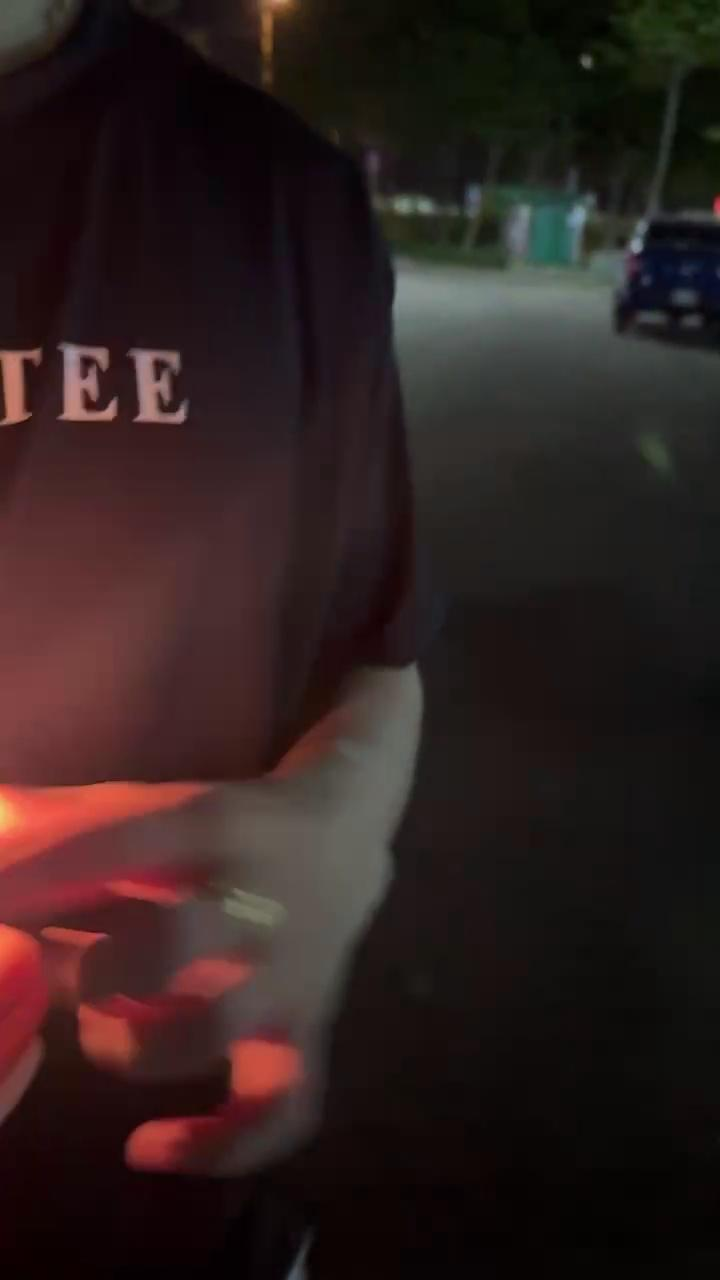Fire: (3, 760, 105, 875)
